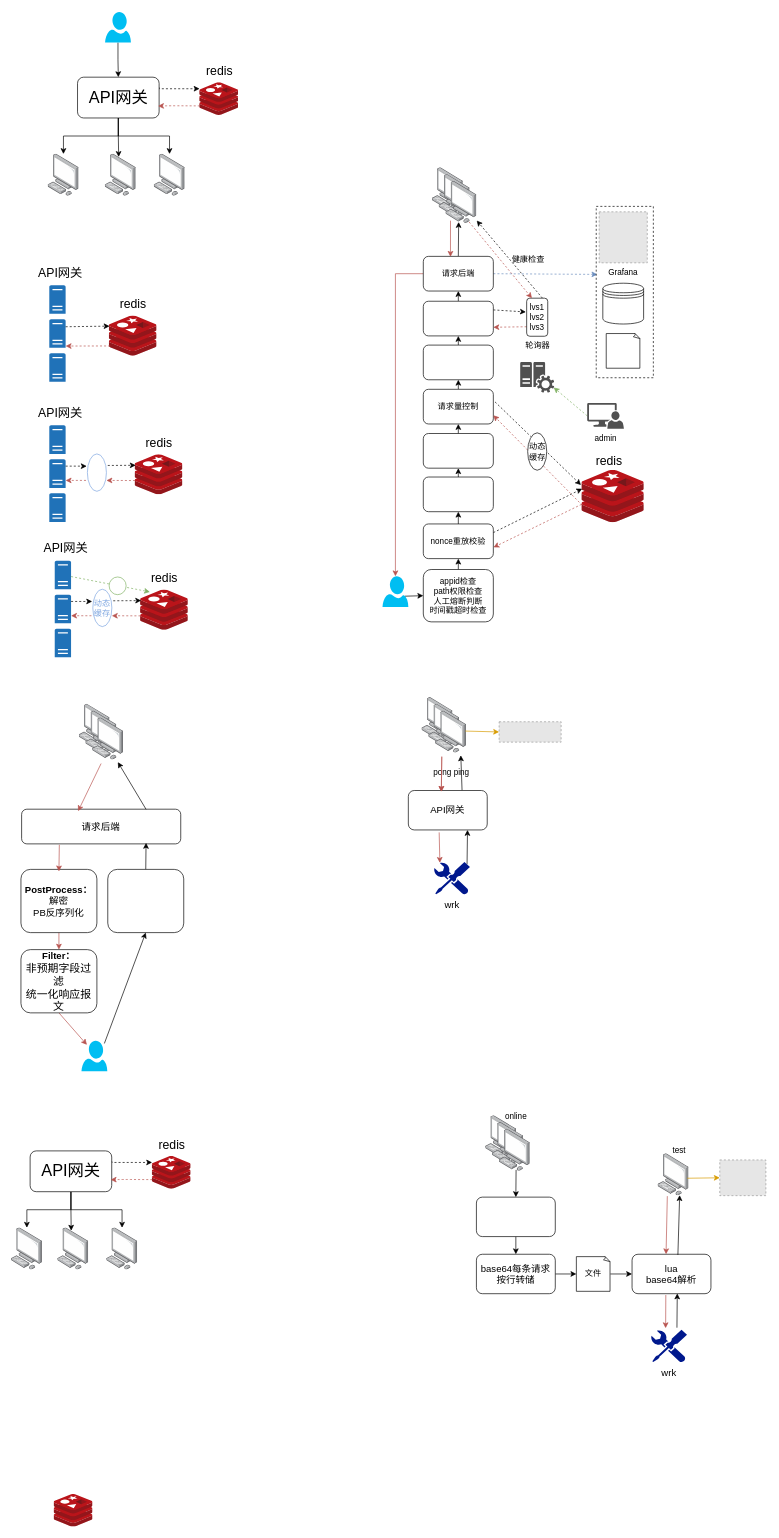
Some shapes in this 779 by 1538 pixel diagram are drawn without their labels. Grey dashed boxes stand in for pictures. The shapes that lost their labels are listed below. From the top down, each one's box as (x1, y1, x2, y2) in pixels, then its label:
(423, 301, 493, 336): 获取后端地址
(602, 283, 644, 324): qlogd
(423, 344, 493, 380): 参数检查 参数转换
(606, 333, 640, 368): 本地log
(520, 362, 554, 392): 网关config
(423, 433, 493, 468): path级别qps限制
(87, 453, 106, 491): 缓存
(423, 476, 493, 512): sign身份认证
(108, 576, 126, 595): lock
(107, 869, 184, 933): PreProcess： 解析用户请求 PB序列化 加密
(476, 1196, 555, 1237): Sniffex
